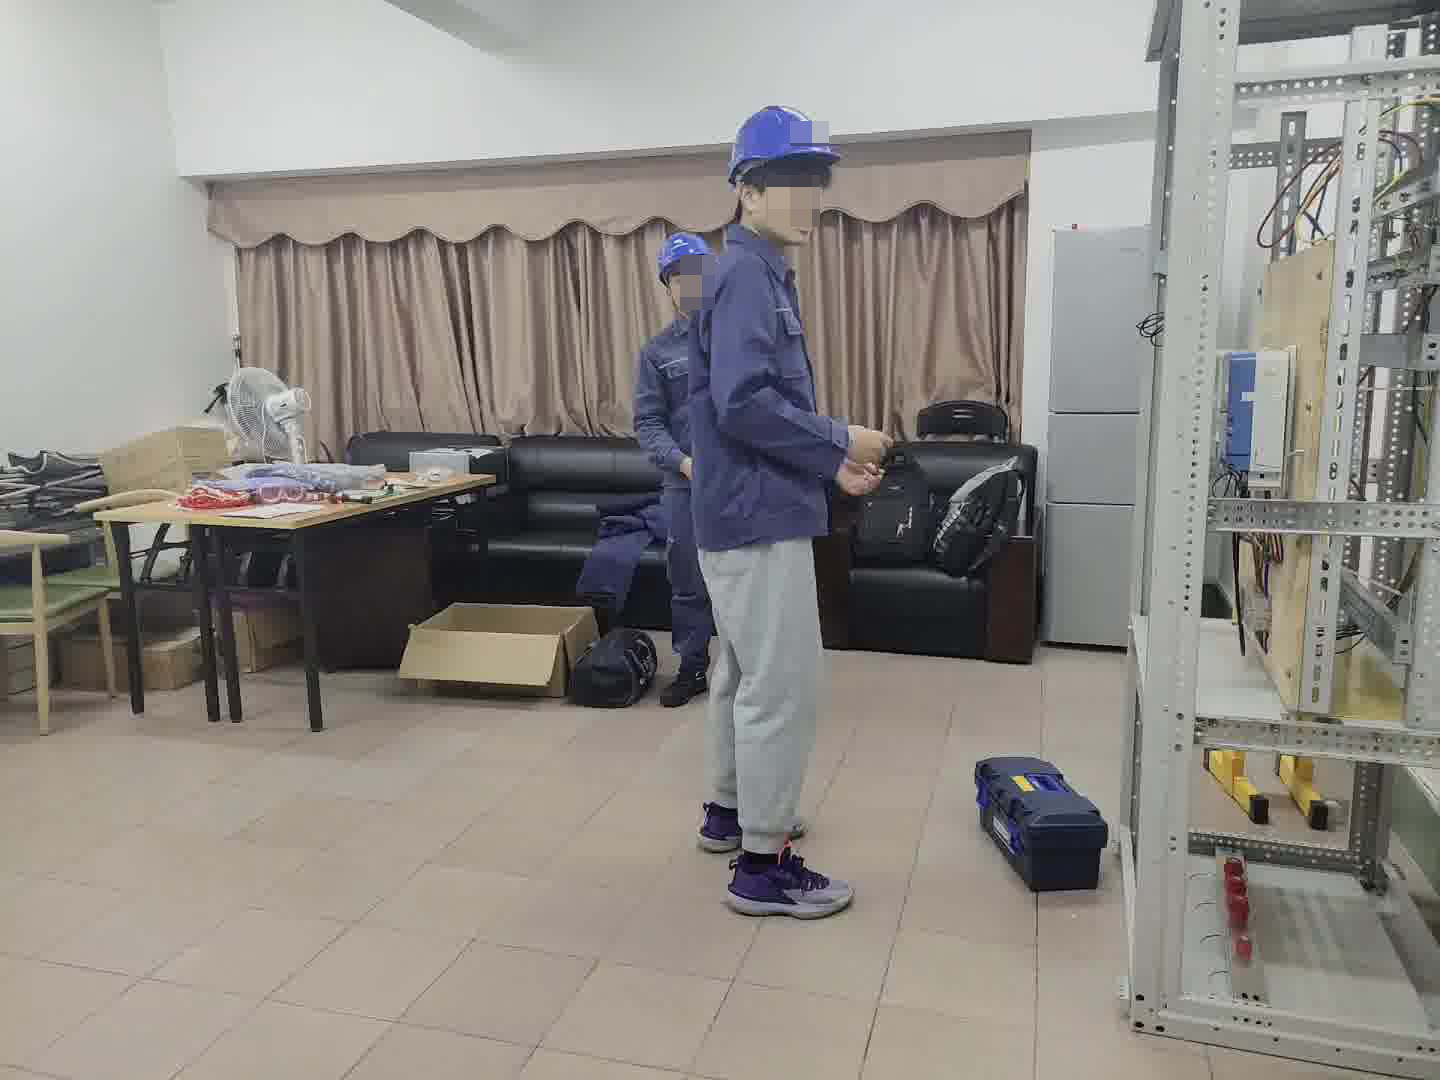downcloth: (698, 532, 830, 861)
downsuit: (660, 479, 716, 661)
halt: (729, 105, 841, 245), (654, 232, 718, 313)
hand: (832, 452, 885, 496), (845, 426, 891, 471)
noear: (733, 162, 784, 233)
person: (681, 98, 893, 924), (627, 231, 723, 711)
upsuit: (691, 221, 852, 554), (631, 302, 694, 489)
